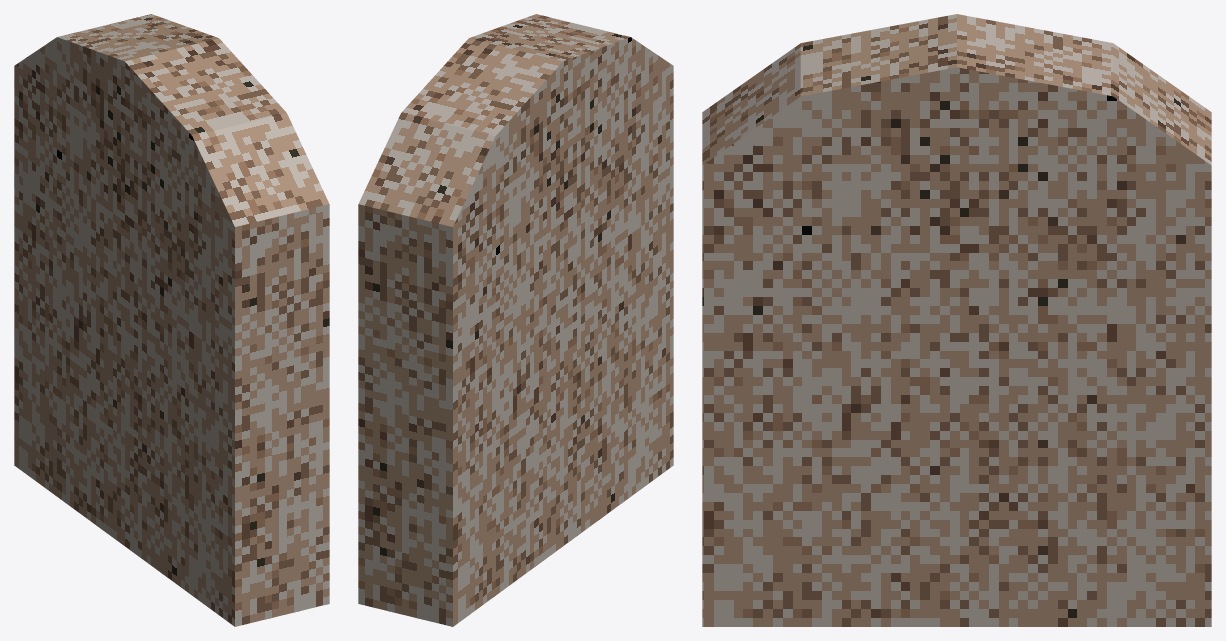
The model's file is grave-stone.glb.
3 renders of one model, left to right at view 1: azimuth 30°, elevation 25°; view 2: azimuth 150°, elevation 25°; view 3: azimuth 270°, elevation 25°, orthographic. The views are drawn at different scales.
Visible parts, largest first — view 1: grave-stone-col; view 2: grave-stone-col; view 3: grave-stone-col.
Boxes of the visible parts, left/top/right/bottom form: grave-stone-col: left=14, top=14, right=329, bottom=626; grave-stone-col: left=358, top=14, right=673, bottom=626; grave-stone-col: left=702, top=14, right=1211, bottom=626.
Size of the model in its own units: 0.1062 by 0.5204 by 0.4291.
1 material, 1 textured.
